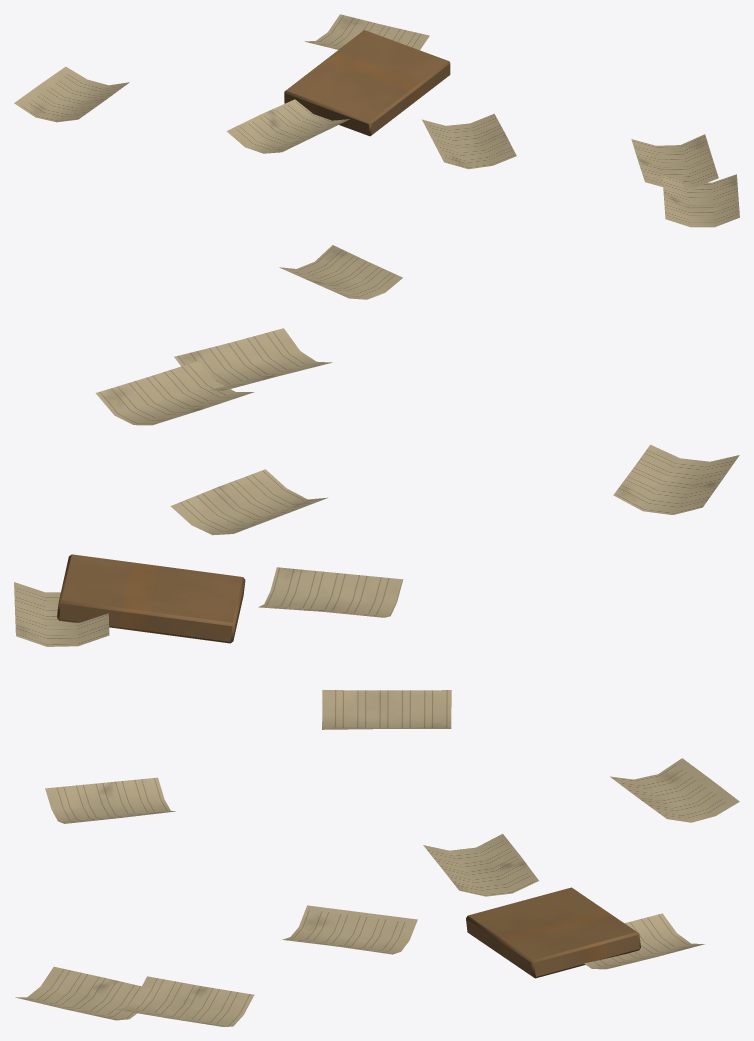
File: Debris_PaperFloat.fbx
3 renders of one model, top to bottom at view 1: azimuth 30°, elevation 25°; view 2: azimuth 150°, elevation 25°; view 3: azimuth 270°, elevation 25°, orthographic. The views are drawn at different scales.
Parts seen in each view (by area): view 1: Debris_PaperFloat; view 2: Debris_PaperFloat; view 3: Debris_PaperFloat.
Part boxes in pixels (<box>): Debris_PaperFloat: <box>14,14,739,299</box>; Debris_PaperFloat: <box>14,328,739,729</box>; Debris_PaperFloat: <box>15,758,739,1026</box>.
Size of the model in its own units: 1.58 by 0.1101 by 1.81.
